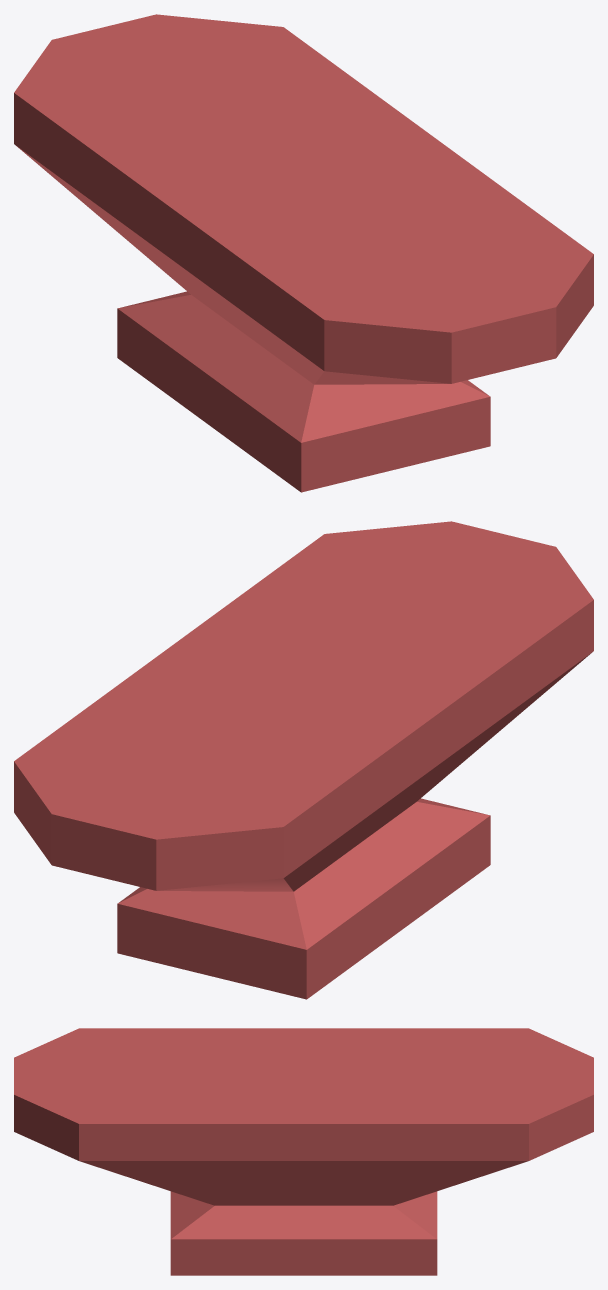
File: enclume.fbx
The picture shows the model from 3 angles, top to bottom: view 1: azimuth 30°, elevation 25°; view 2: azimuth 150°, elevation 25°; view 3: azimuth 270°, elevation 25°; orthographic projection. The views are drawn at different scales.
Parts seen in each view (by area): view 1: enclume; view 2: enclume; view 3: enclume.
Boxes of the visible parts, x1=… form: enclume: x1=14, y1=14, x2=593, y2=492; enclume: x1=14, y1=521, x2=593, y2=999; enclume: x1=14, y1=1028, x2=593, y2=1275.
Size of what is drawn, in the model's own units: 1.19 by 0.9623 by 3.05.
